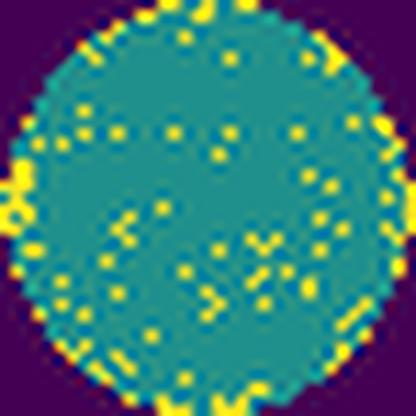Edge-Loc: (0, 157, 37, 233), (210, 379, 268, 416)
